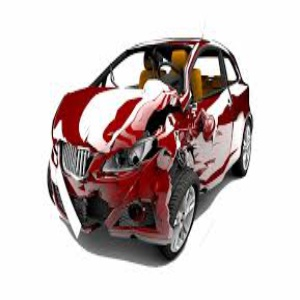bumper: (82, 173, 181, 249)
